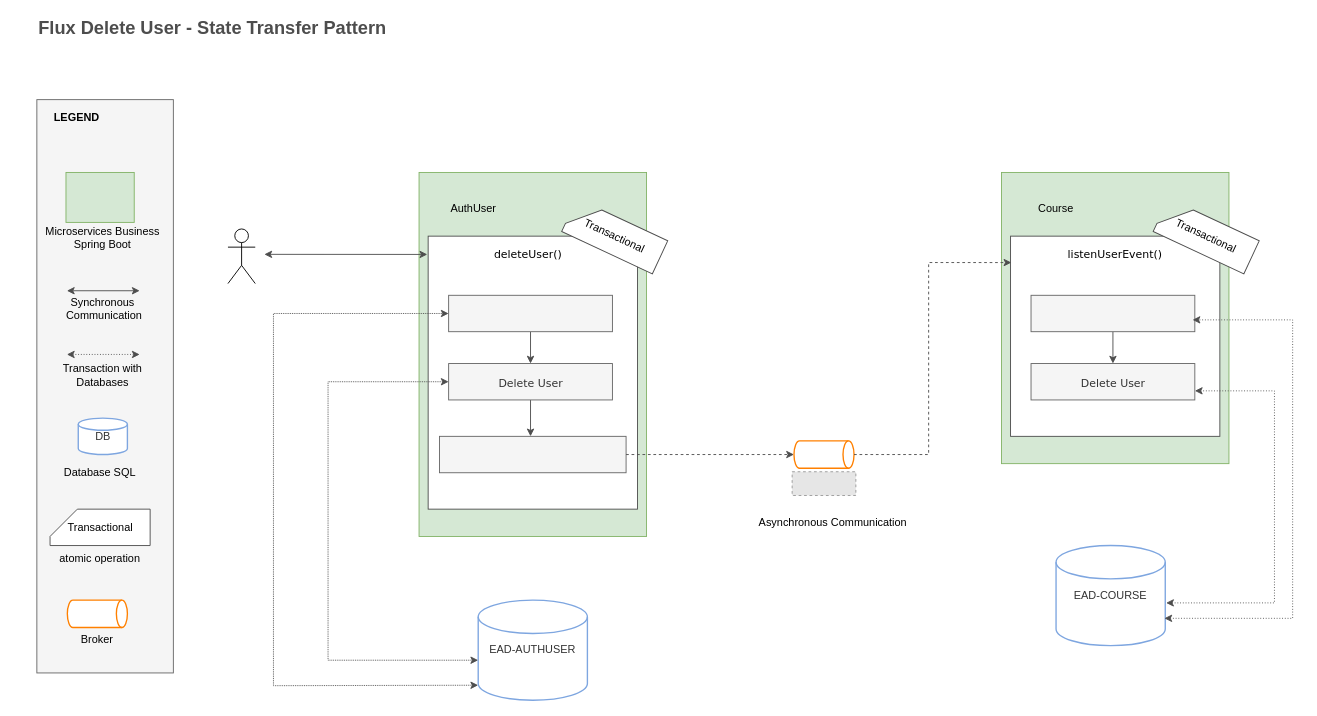
Some shapes in this 1317 by 716 pixel diagram are drawn without their labels. Grey dashed boxes stand in for pictures. Here are the shapes that lost their labels. From the top down, the box of each, then its label:
(227, 228, 255, 284): Client
(448, 294, 612, 332): User Verification
(1030, 294, 1195, 332): Delete CourseUser R elation
(439, 435, 626, 473): Publish UserEvent DELETE
